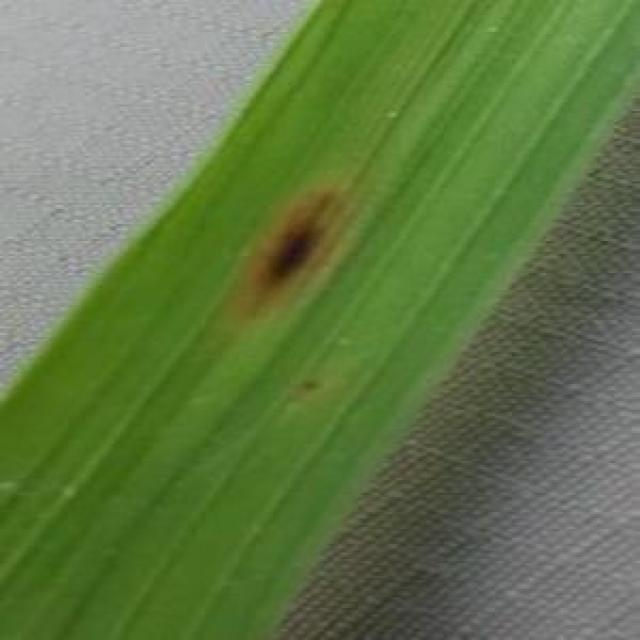brownspots: (258, 192, 337, 301), (296, 373, 318, 395)
